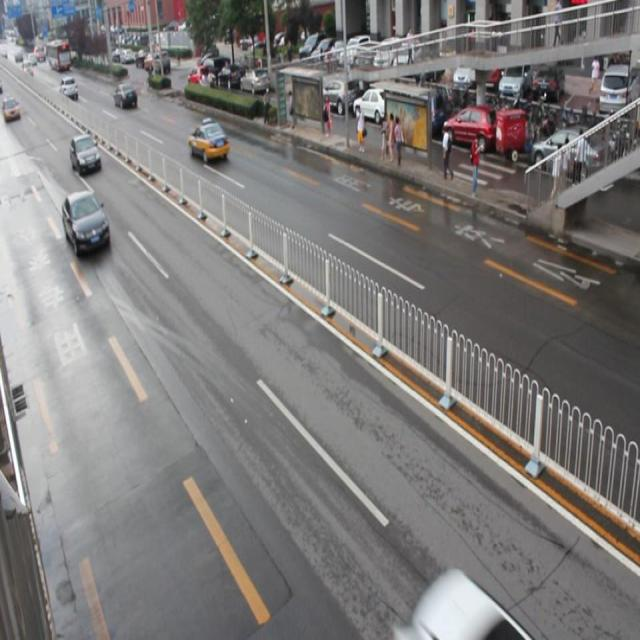car: (63, 189, 110, 255), (188, 120, 229, 163), (69, 132, 102, 176), (113, 82, 138, 110)
